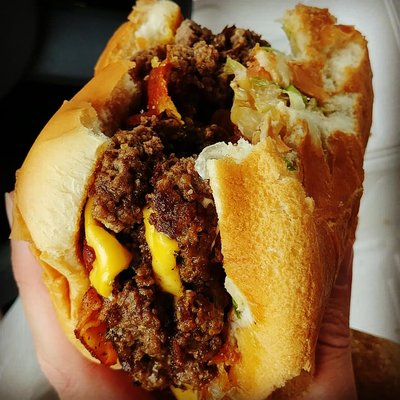soup: (3, 5, 378, 400)
